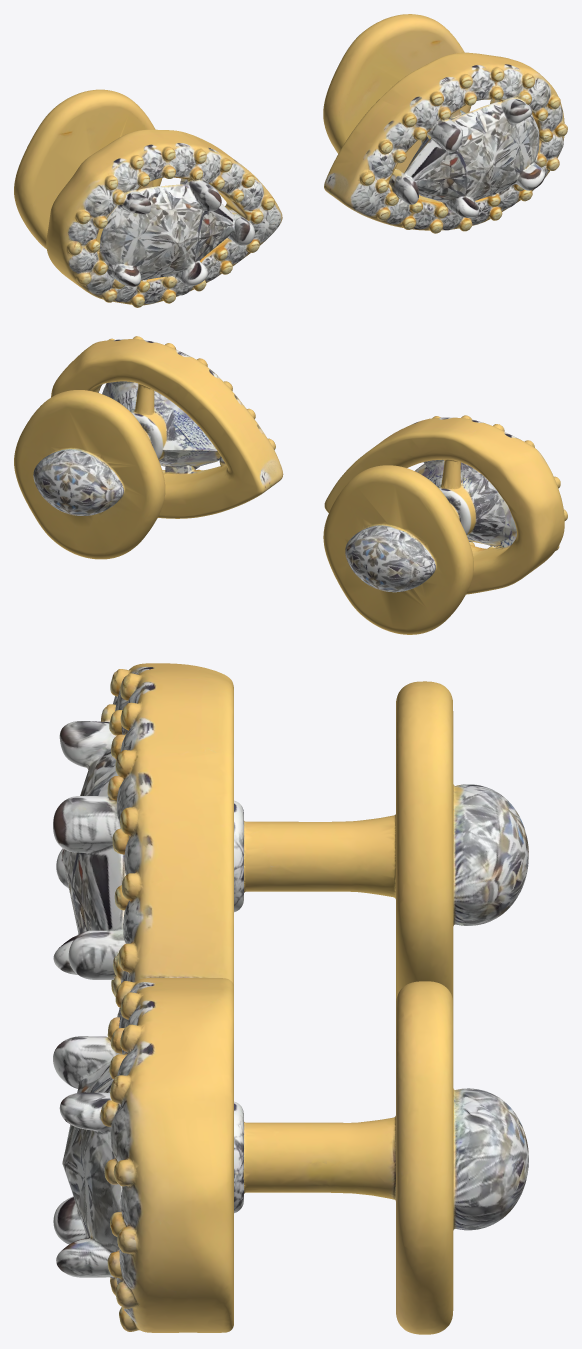
The model's file is pear-halo-drop-earrings-opt.glb.
3 renders of one model, top to bottom at view 1: azimuth 30°, elevation 25°; view 2: azimuth 150°, elevation 25°; view 3: azimuth 270°, elevation 25°, orthographic. The views are drawn at different scales.
Visible parts, largest first — view 1: mesh_node; view 2: mesh_node; view 3: mesh_node.
Boxes of the visible parts, x1,y1,x2,y2 form: mesh_node: (14,14,567,307); mesh_node: (14,336,567,634); mesh_node: (53,663,528,1334).
Size of the model in its own units: 1.9 by 0.5876 by 0.7805.
1 material, 1 textured.
